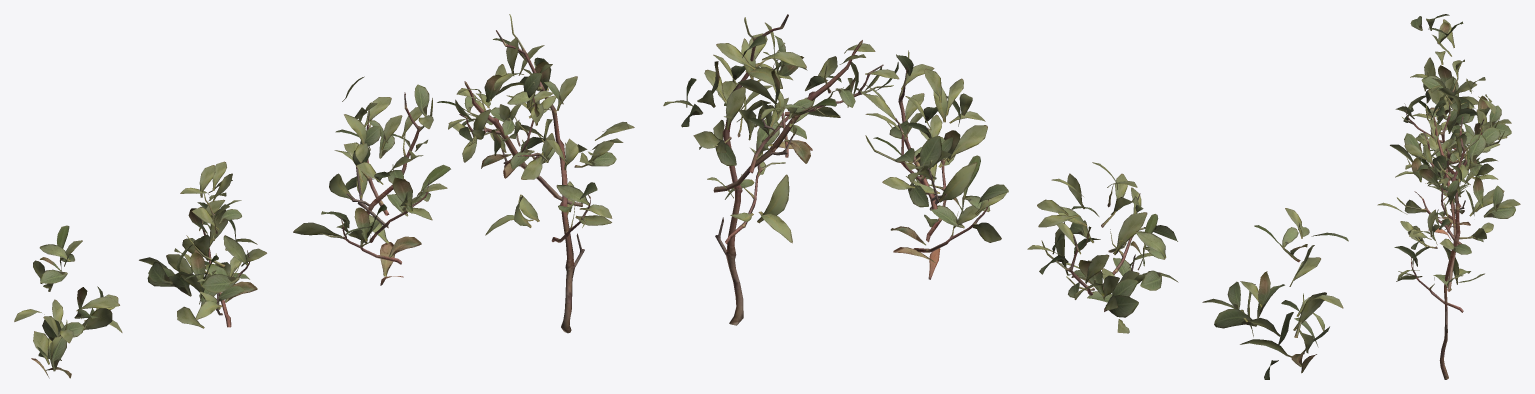
Rendered from shrub.glb.
3 renders of one model, left to right at view 1: azimuth 30°, elevation 25°; view 2: azimuth 150°, elevation 25°; view 3: azimuth 270°, elevation 25°, orthographic. The views are drawn at different scales.
Parts seen in each view (by area): view 1: shrub_04; view 2: shrub_04; view 3: shrub_04.
Boxes of the visible parts, x1,y1,x2,y2 form: shrub_04: (14, 14, 634, 378); shrub_04: (663, 14, 1348, 379); shrub_04: (1377, 14, 1520, 379).
Size of the model in its own units: 0.5909 by 0.2895 by 0.1566.
Materials: 1 (1 with a texture image).
